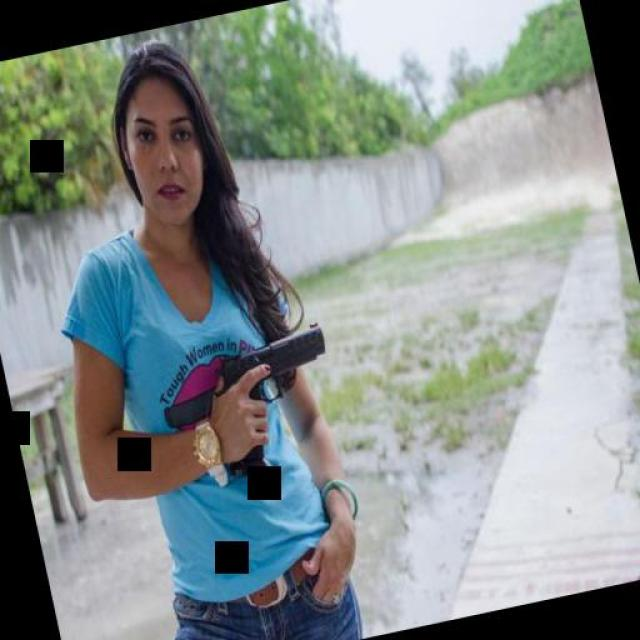gun: (198, 310, 354, 492)
